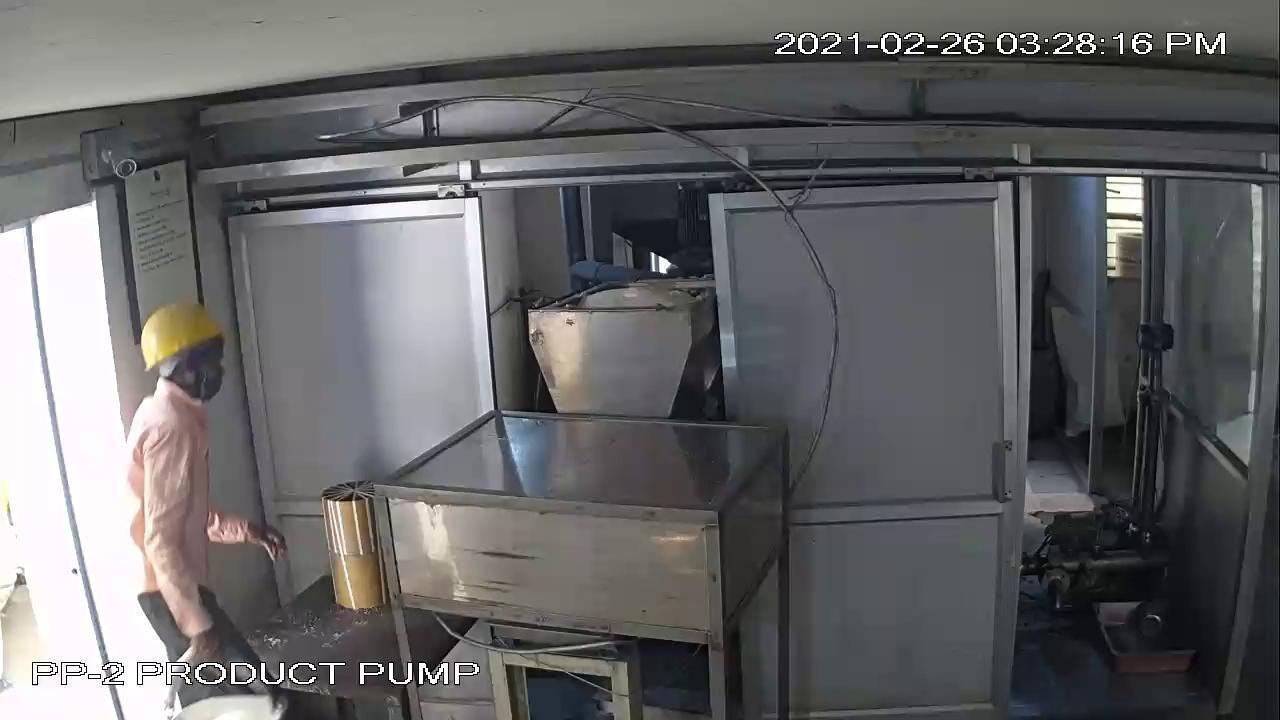helmet: (128, 288, 229, 372)
